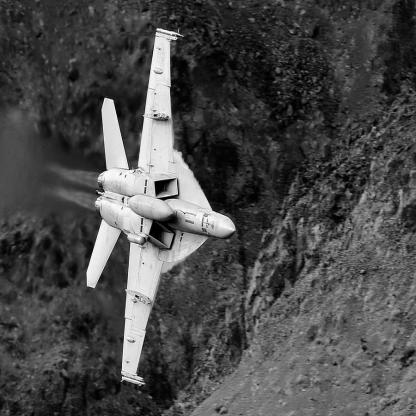F18: (87, 29, 237, 389)
